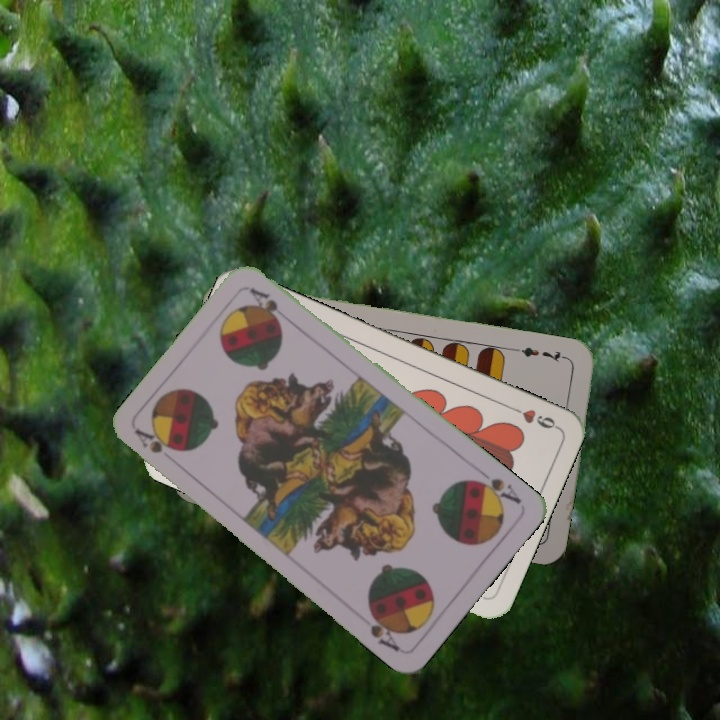E7: (513, 343, 572, 365)
H9: (504, 401, 560, 432)
SA: (467, 465, 525, 508), (131, 425, 178, 456)
